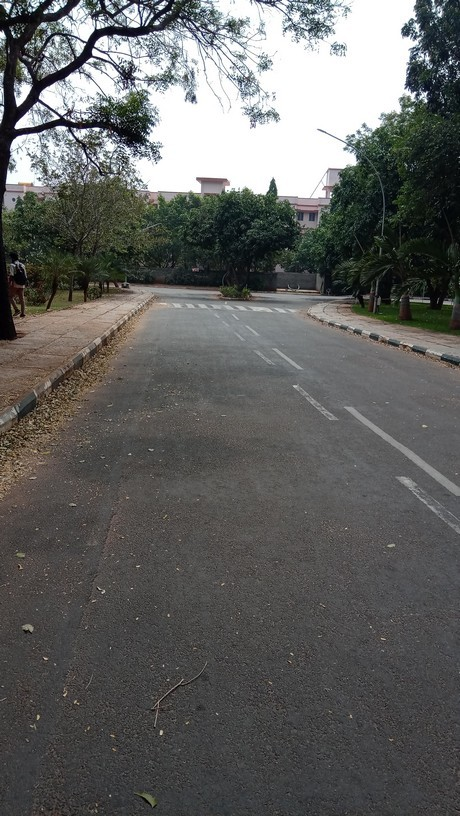bump: (150, 299, 307, 313)
